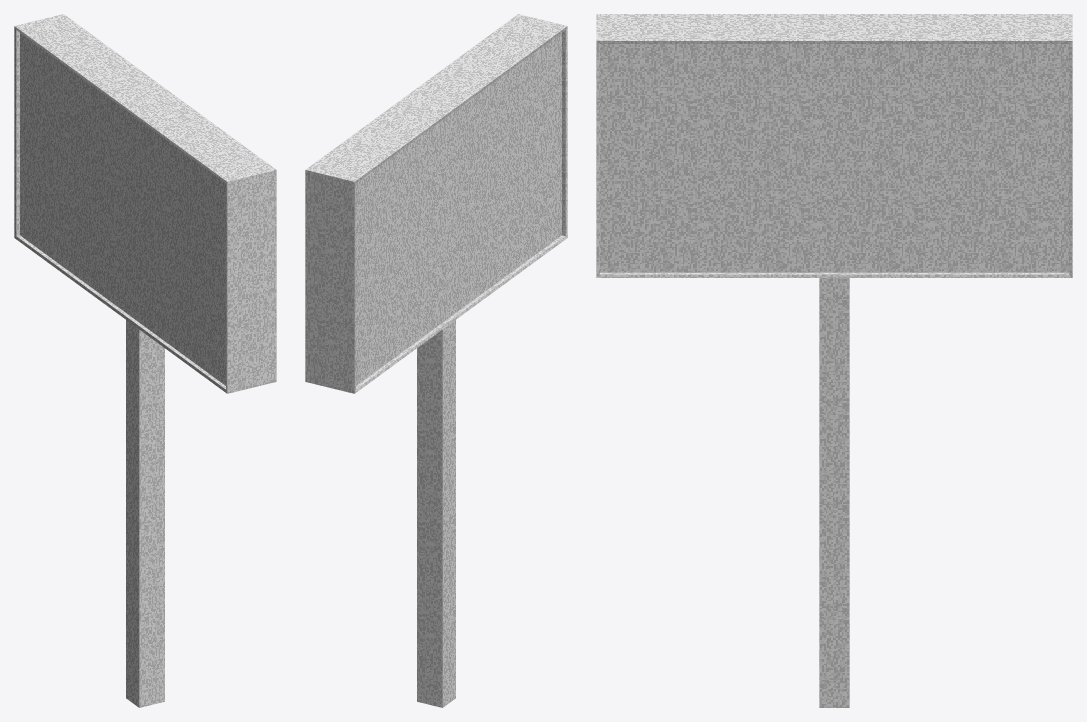
Rendered from BGN_POSTER.fbx.
The picture shows the model from 3 angles, left to right: view 1: azimuth 30°, elevation 25°; view 2: azimuth 150°, elevation 25°; view 3: azimuth 270°, elevation 25°; orthographic projection. The views are drawn at different scales.
Parts seen in each view (by area): view 1: BGN_POSTER; view 2: BGN_POSTER; view 3: BGN_POSTER.
Part boxes in pixels (box(x1,y1,x2,y2)): BGN_POSTER: box(14, 14, 276, 707); BGN_POSTER: box(305, 14, 567, 707); BGN_POSTER: box(596, 14, 1072, 707).
Bounding box in the file's own units: 65.2 × 761 × 488.
